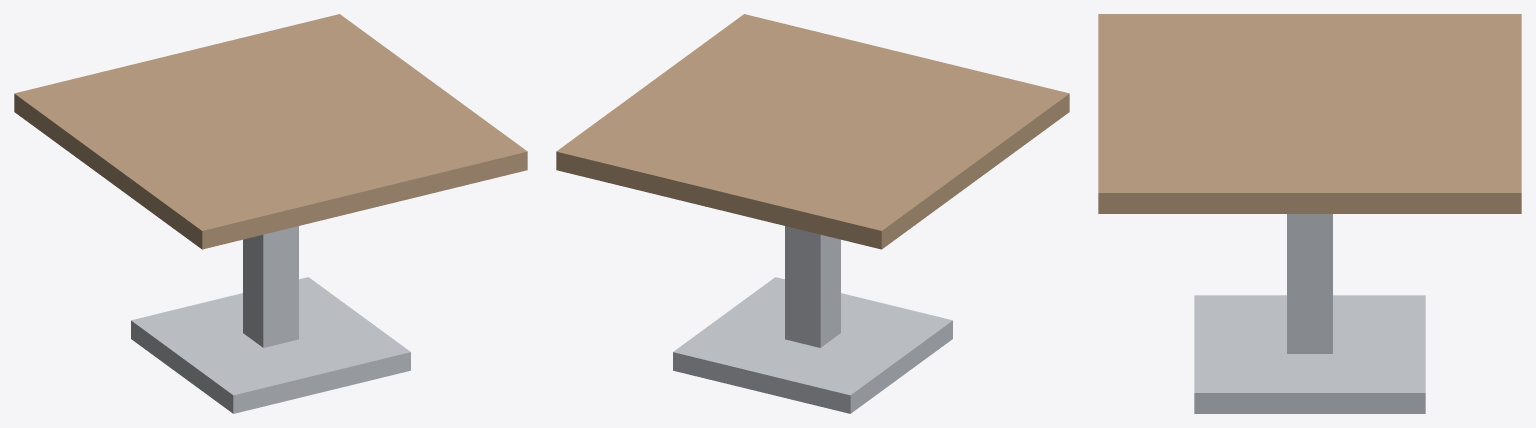
The model's file is round-table.glb.
The picture shows the model from 3 angles, left to right: view 1: azimuth 30°, elevation 25°; view 2: azimuth 150°, elevation 25°; view 3: azimuth 270°, elevation 25°; orthographic projection. The views are drawn at different scales.
Visible parts, largest first — view 1: round-table_Top, round-table_Base, round-table_Post; view 2: round-table_Top, round-table_Base, round-table_Post; view 3: round-table_Top, round-table_Base, round-table_Post.
Part boxes in pixels (box(x1,y1,x2,y2)): round-table_Top: box(14, 14, 527, 249); round-table_Base: box(131, 277, 410, 413); round-table_Post: box(243, 226, 298, 347); round-table_Top: box(556, 14, 1069, 249); round-table_Base: box(673, 277, 952, 413); round-table_Post: box(785, 226, 840, 347); round-table_Top: box(1098, 14, 1521, 213); round-table_Base: box(1194, 295, 1425, 413); round-table_Post: box(1287, 214, 1332, 353).
Size of the model in its own units: 1.1 by 0.75 by 1.1.
